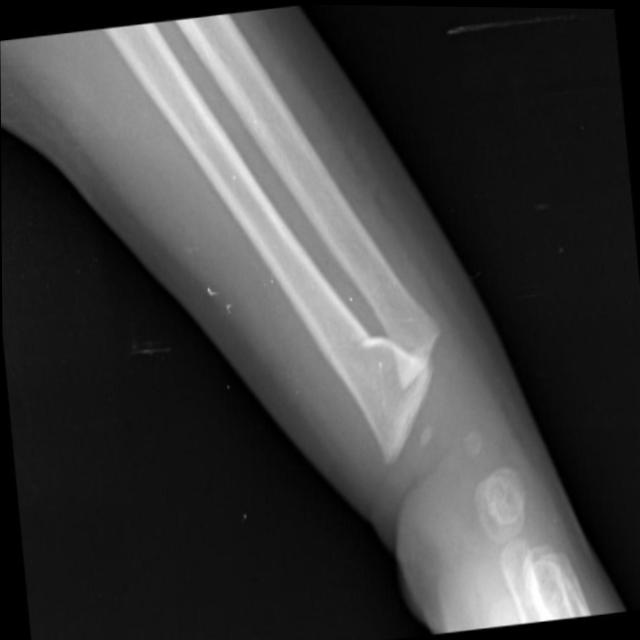Greenstick: (346, 301, 389, 362)
